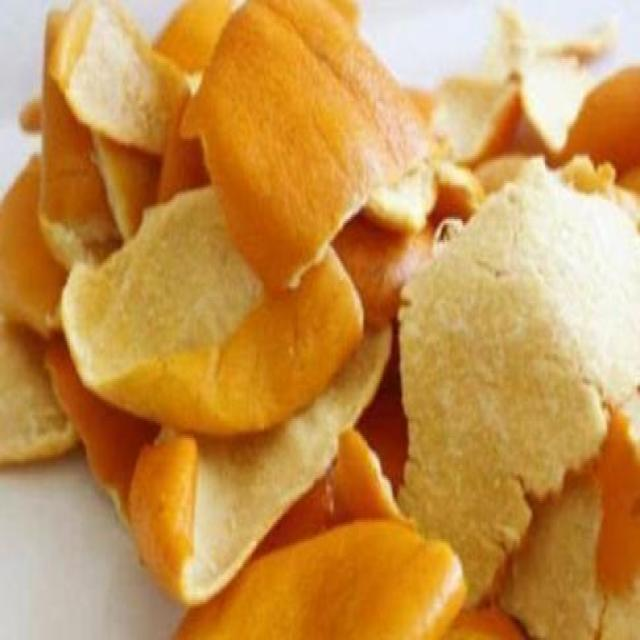-Kitchen waste - fruit-: (202, 5, 436, 266)
